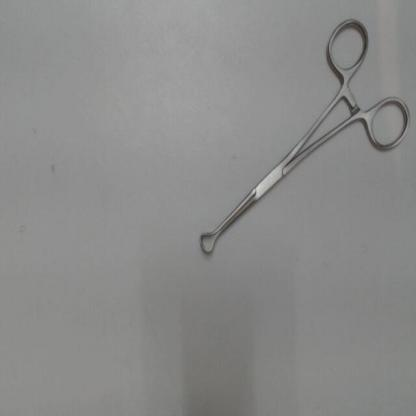Babcock Tissue Forceps: (197, 9, 412, 258)
